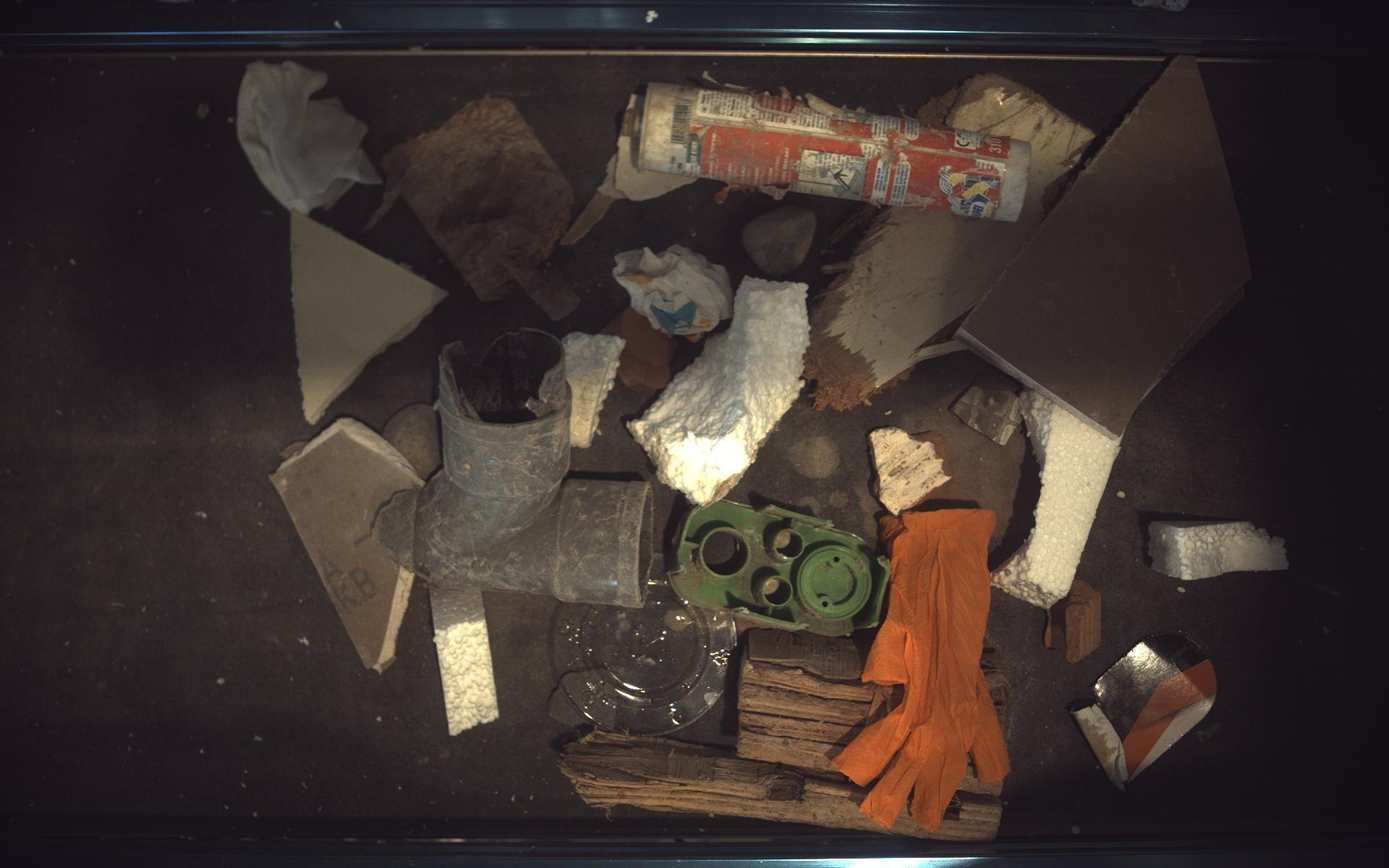brick: (872, 427, 952, 516), (603, 307, 679, 393), (1047, 580, 1104, 664)
foam: (628, 276, 811, 506), (995, 388, 1123, 609), (430, 588, 499, 737), (1151, 521, 1292, 581), (563, 332, 626, 448)
general_w: (836, 511, 1012, 833), (552, 555, 738, 736), (236, 60, 381, 214), (1076, 635, 1220, 790), (613, 244, 734, 341)
gypsum_board: (959, 55, 1254, 438), (269, 418, 423, 673), (290, 211, 447, 425), (558, 95, 701, 247)
pipes: (374, 328, 653, 608)
plastic: (621, 83, 1032, 220), (671, 500, 891, 637)
stone: (744, 205, 818, 275), (382, 404, 441, 480)
tile: (548, 668, 620, 731), (953, 385, 1024, 446)
wood: (807, 72, 1097, 410), (563, 630, 901, 833), (370, 97, 579, 320), (892, 767, 1004, 843), (982, 637, 1014, 726)
